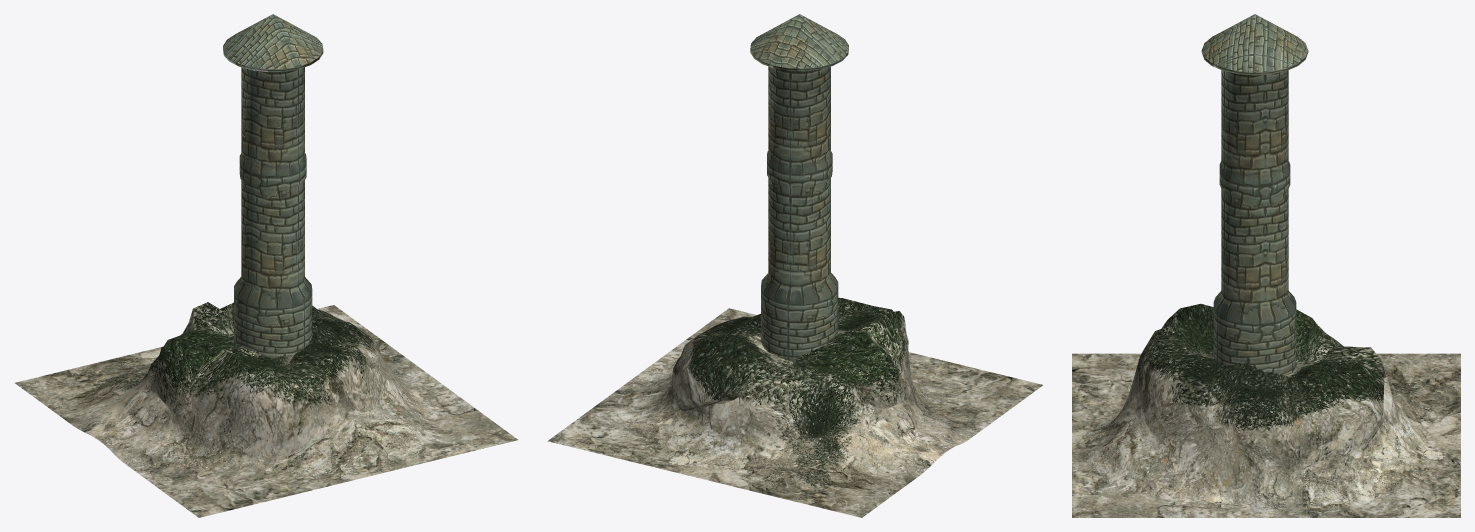
File: LightHouse.fbx
The picture shows the model from 3 angles, left to right: view 1: azimuth 30°, elevation 25°; view 2: azimuth 150°, elevation 25°; view 3: azimuth 270°, elevation 25°; orthographic projection. The views are drawn at different scales.
Parts seen in each view (by area): view 1: polySurface1; view 2: polySurface1; view 3: polySurface1.
Part boxes in pixels (x1,y1,x2,y2): polySurface1: (15,14,517,517); polySurface1: (547,14,1042,517); polySurface1: (1072,14,1460,517).
Size of the model in its own units: 88.22 by 106 by 88.12.
